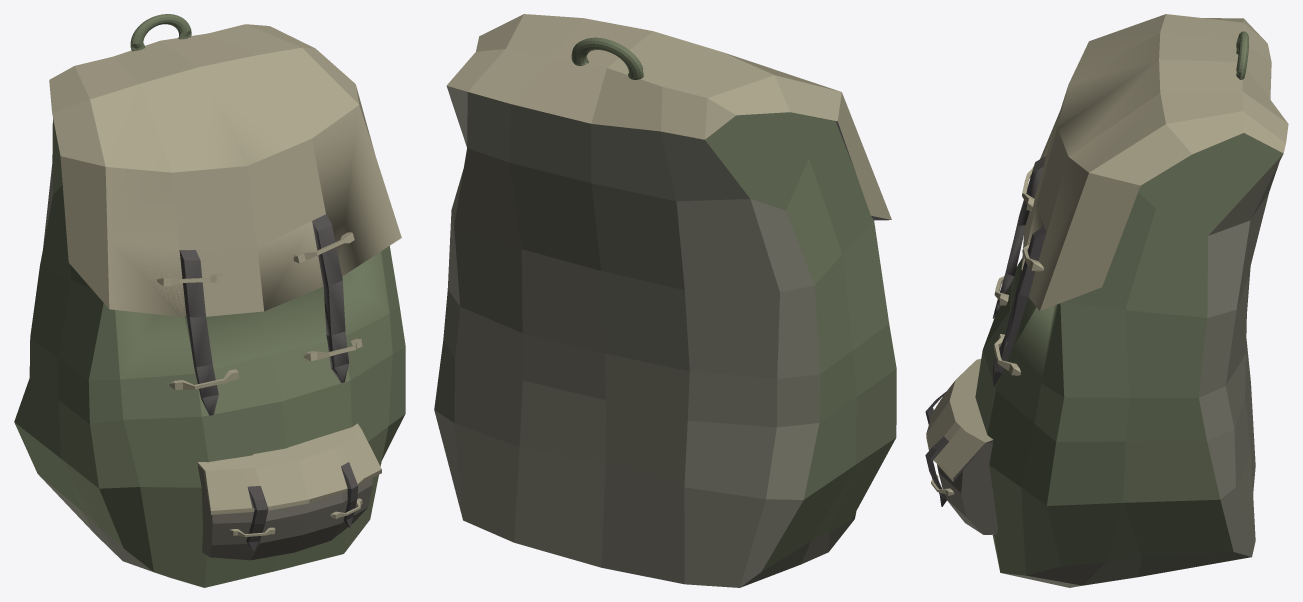
Rendered from BackpackTable.fbx.
3 views of the same model, side by side, from view 1: azimuth 30°, elevation 25°; view 2: azimuth 150°, elevation 25°; view 3: azimuth 270°, elevation 25° (orthographic). The views are drawn at different scales.
Visible parts, largest first — view 1: Cube; view 2: Cube; view 3: Cube.
Part boxes in pixels (bbox=[...]): Cube: bbox=[14, 14, 405, 587]; Cube: bbox=[434, 14, 896, 587]; Cube: bbox=[925, 14, 1288, 587].
Bounding box in the file's own units: 98.79 × 145 × 92.6.
